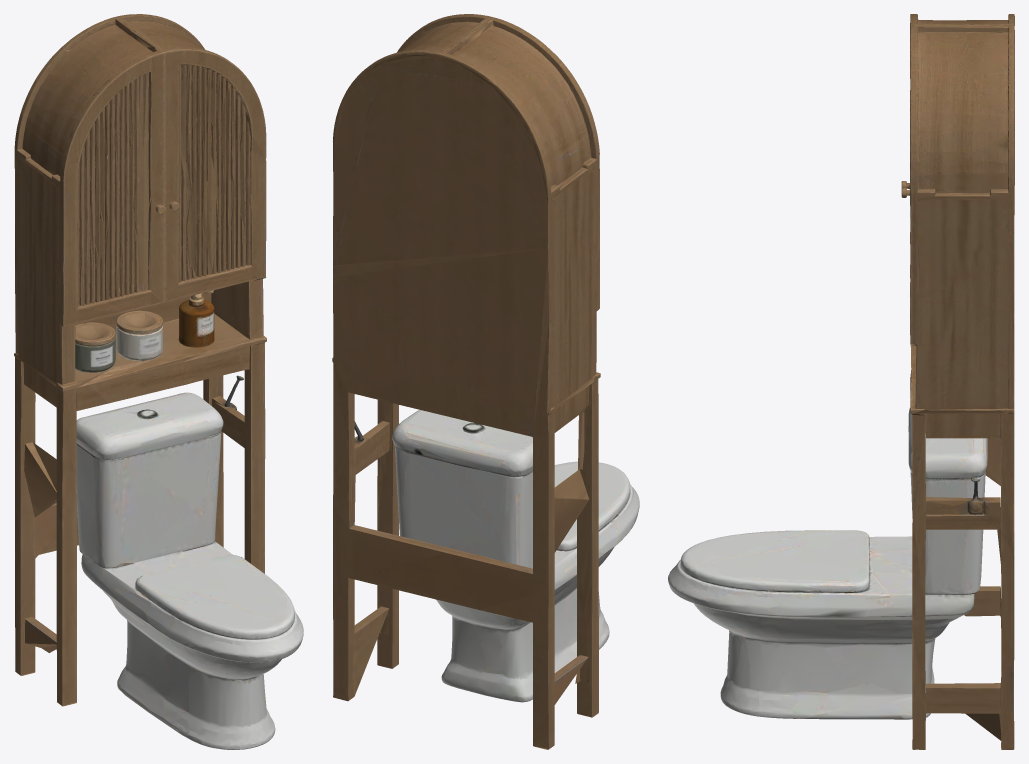
File: wayfair-com-home-improvement-pdp-latitude-run-over-the-toile-0f2f68.glb
The picture shows the model from 3 angles, left to right: view 1: azimuth 30°, elevation 25°; view 2: azimuth 150°, elevation 25°; view 3: azimuth 270°, elevation 25°; orthographic projection. The views are drawn at different scales.
Visible parts, largest first — view 1: Mesh_0; view 2: Mesh_0; view 3: Mesh_0.
Boxes of the visible parts, x1=… form: Mesh_0: x1=14, y1=14, x2=303, y2=749; Mesh_0: x1=332, y1=14, x2=639, y2=749; Mesh_0: x1=668, y1=14, x2=1014, y2=749.
Size of the model in its own units: 0.6671 by 1.9 by 0.8899.
1 material, 1 textured.
